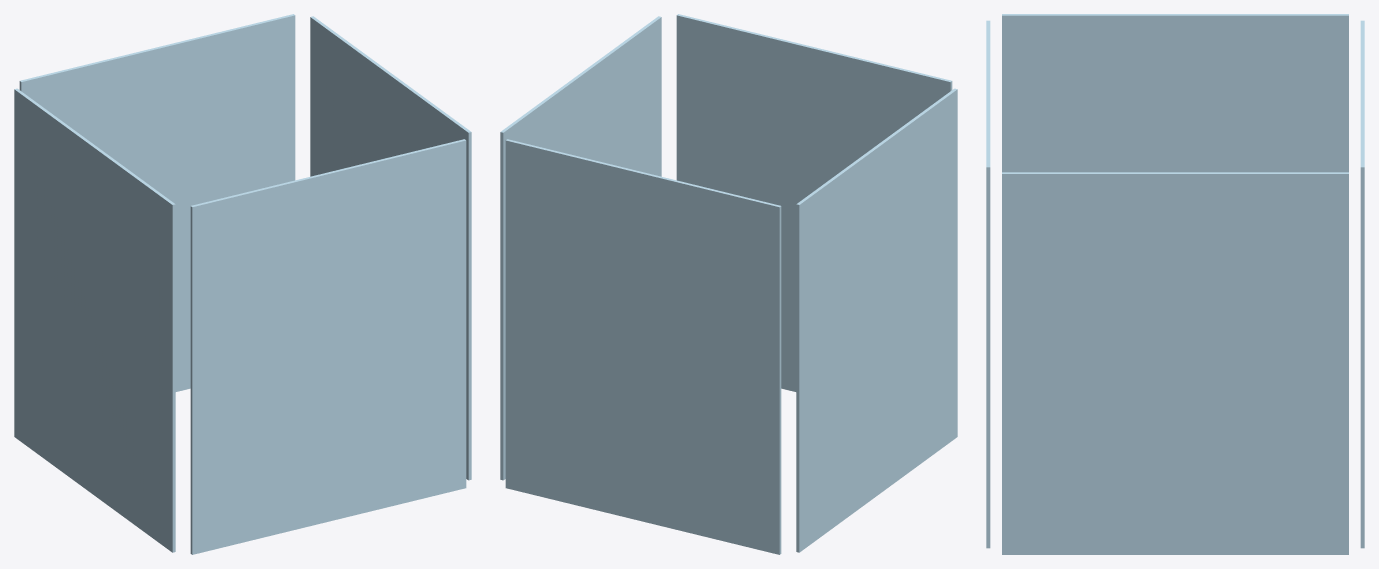
The model's file is glass.glb.
3 views of the same model, side by side, from view 1: azimuth 30°, elevation 25°; view 2: azimuth 150°, elevation 25°; view 3: azimuth 270°, elevation 25° (orthographic). The views are drawn at different scales.
Visible parts, largest first — view 1: 玻璃前, 玻璃左, 玻璃後, 玻璃右; view 2: 玻璃後, 玻璃左, 玻璃前, 玻璃右; view 3: 玻璃右, 玻璃左, 玻璃前, 玻璃後.
Part boxes in pixels (x1=…): 玻璃前: x1=190, y1=139, x2=466, y2=554; 玻璃左: x1=14, y1=88, x2=175, y2=552; 玻璃後: x1=19, y1=14, x2=295, y2=391; 玻璃右: x1=310, y1=16, x2=471, y2=480; 玻璃後: x1=505, y1=139, x2=781, y2=554; 玻璃左: x1=796, y1=88, x2=957, y2=552; 玻璃前: x1=676, y1=14, x2=952, y2=391; 玻璃右: x1=500, y1=16, x2=661, y2=480; 玻璃右: x1=1002, y1=172, x2=1348, y2=554; 玻璃左: x1=1002, y1=14, x2=1348, y2=172; 玻璃前: x1=986, y1=20, x2=990, y2=548; 玻璃後: x1=1360, y1=20, x2=1364, y2=548.
Bounding box in the file's own units: 1.9 × 2.11 × 1.9.
